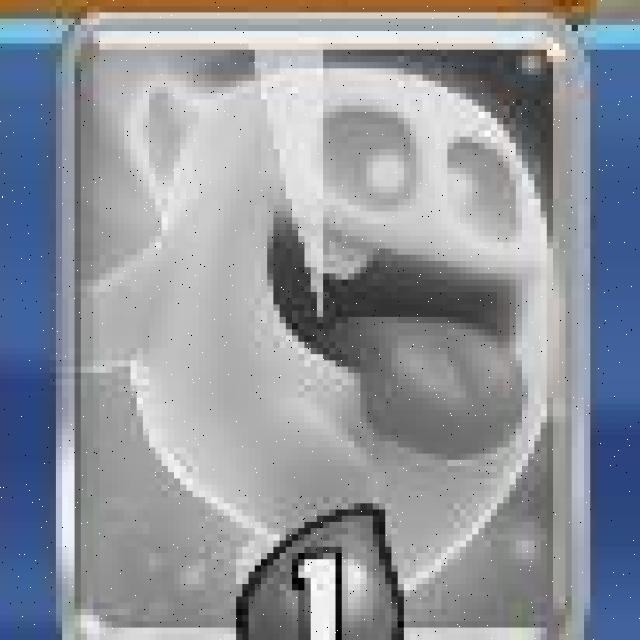Heal_Spirit: (54, 15, 594, 640)
